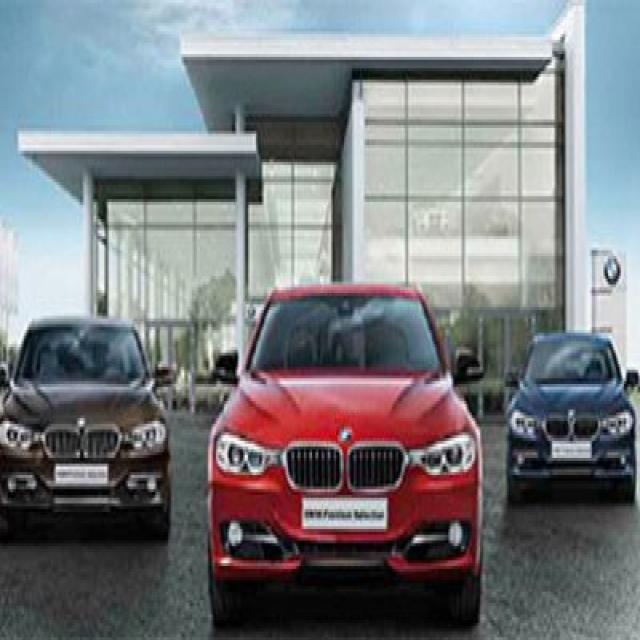car: (203, 276, 485, 629), (0, 313, 173, 555), (506, 324, 638, 515)
